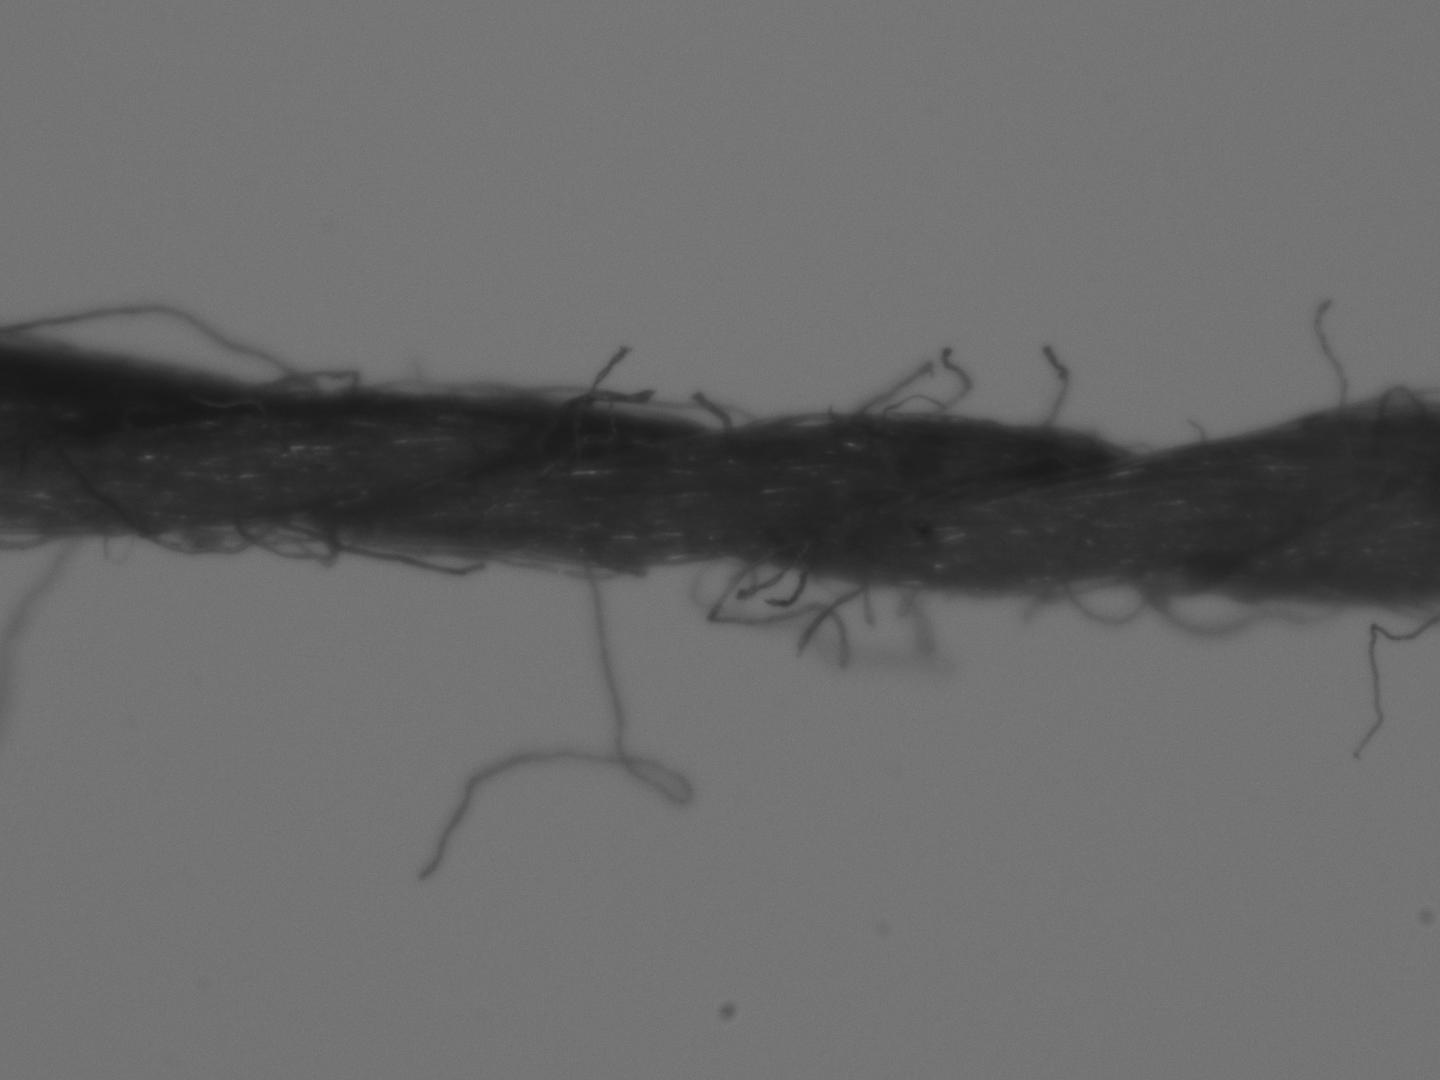loop_fiber: (0, 304, 320, 397), (362, 372, 757, 434), (99, 523, 508, 576), (1144, 583, 1346, 636), (1011, 580, 1153, 628), (264, 368, 358, 403), (874, 398, 941, 428), (1, 534, 49, 548)
protruding_fiber: (418, 748, 617, 877), (704, 562, 852, 670), (1353, 613, 1437, 758), (5, 534, 83, 675), (583, 564, 632, 754), (796, 575, 872, 652), (1311, 293, 1353, 417), (848, 365, 933, 422), (617, 754, 701, 807), (577, 343, 630, 413), (1039, 338, 1073, 428), (934, 341, 973, 416)
